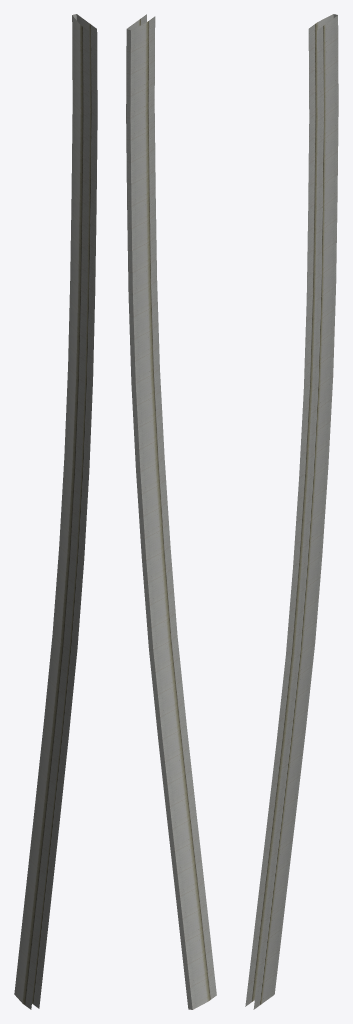
Rendered from _1WALL_small01_15_SUB0.obj.
The picture shows the model from 3 angles, left to right: view 1: azimuth 30°, elevation 25°; view 2: azimuth 150°, elevation 25°; view 3: azimuth 330°, elevation 25°; orthographic projection. The views are drawn at different scales.
Parts seen in each view (by area): view 1: _1WALL_small01_15_SUB0_Scene.319; view 2: _1WALL_small01_15_SUB0_Scene.319; view 3: _1WALL_small01_15_SUB0_Scene.319.
Boxes of the visible parts, x1,y1,x2,y2 form: _1WALL_small01_15_SUB0_Scene.319: (14, 14, 97, 1009); _1WALL_small01_15_SUB0_Scene.319: (126, 14, 216, 1009); _1WALL_small01_15_SUB0_Scene.319: (245, 14, 338, 1009).
Size of the model in its own units: 326 by 4396 by 185.
